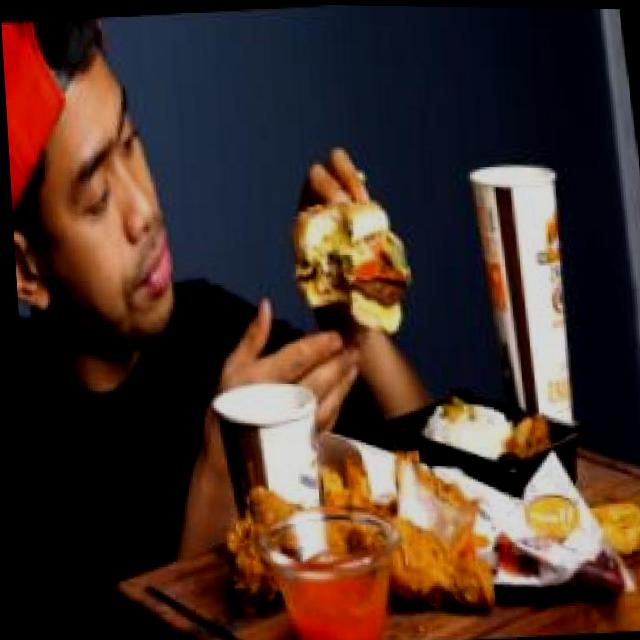AW cola: (452, 148, 588, 430)
black pepper rice bowl: (377, 377, 563, 499)
chicken waffle: (289, 408, 383, 507)
crispy corn: (190, 370, 333, 532)
fried chicken: (183, 430, 502, 627)
mozza burger: (278, 176, 419, 351)
perkedel: (569, 479, 640, 560)
